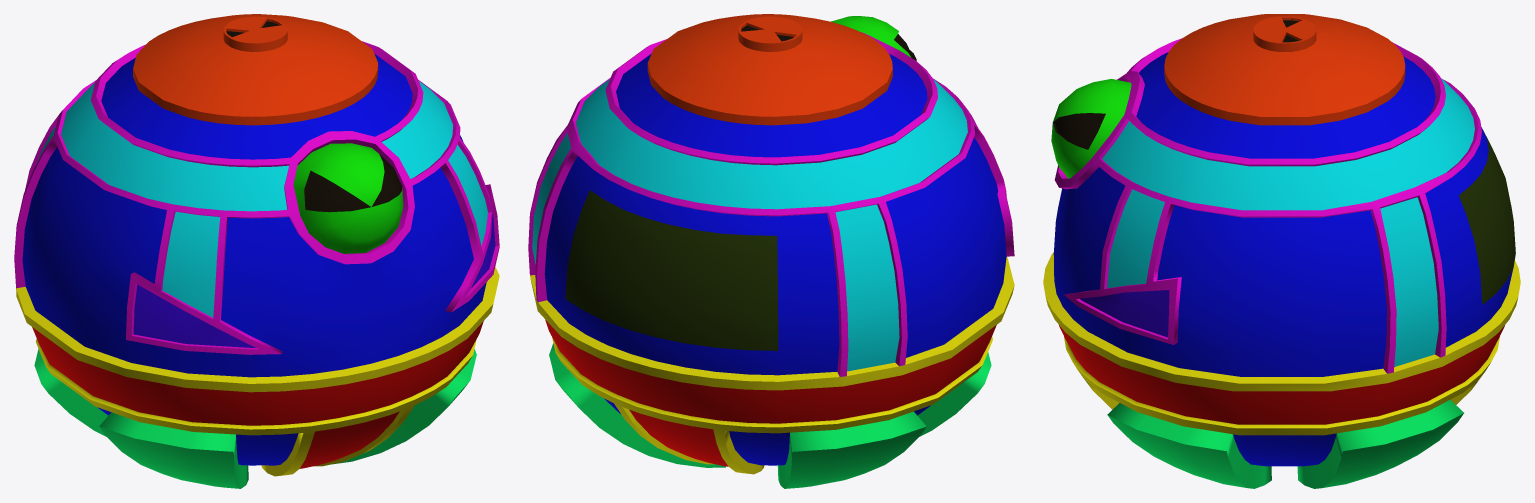
File: Sumo_Low.fbx
The picture shows the model from 3 angles, left to right: view 1: azimuth 30°, elevation 25°; view 2: azimuth 150°, elevation 25°; view 3: azimuth 270°, elevation 25°; orthographic projection.
Parts seen in each view (by area): view 1: FinalGladk009; view 2: FinalGladk009; view 3: FinalGladk009.
Part boxes in pixels (bbox=[...]): FinalGladk009: bbox=[14, 14, 499, 488]; FinalGladk009: bbox=[528, 14, 1014, 488]; FinalGladk009: bbox=[1043, 14, 1520, 488].
Bounding box in the file's own units: 443 × 439 × 441.
